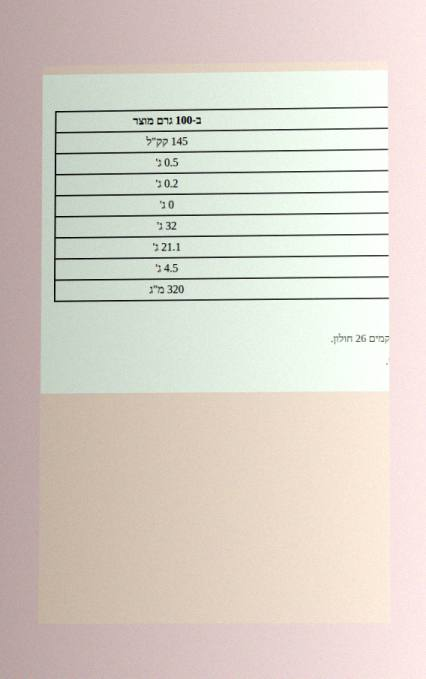carbs: (155, 218, 178, 233)
energy: (145, 134, 189, 149)
fat: (154, 155, 180, 170)
protein: (154, 260, 179, 276)
